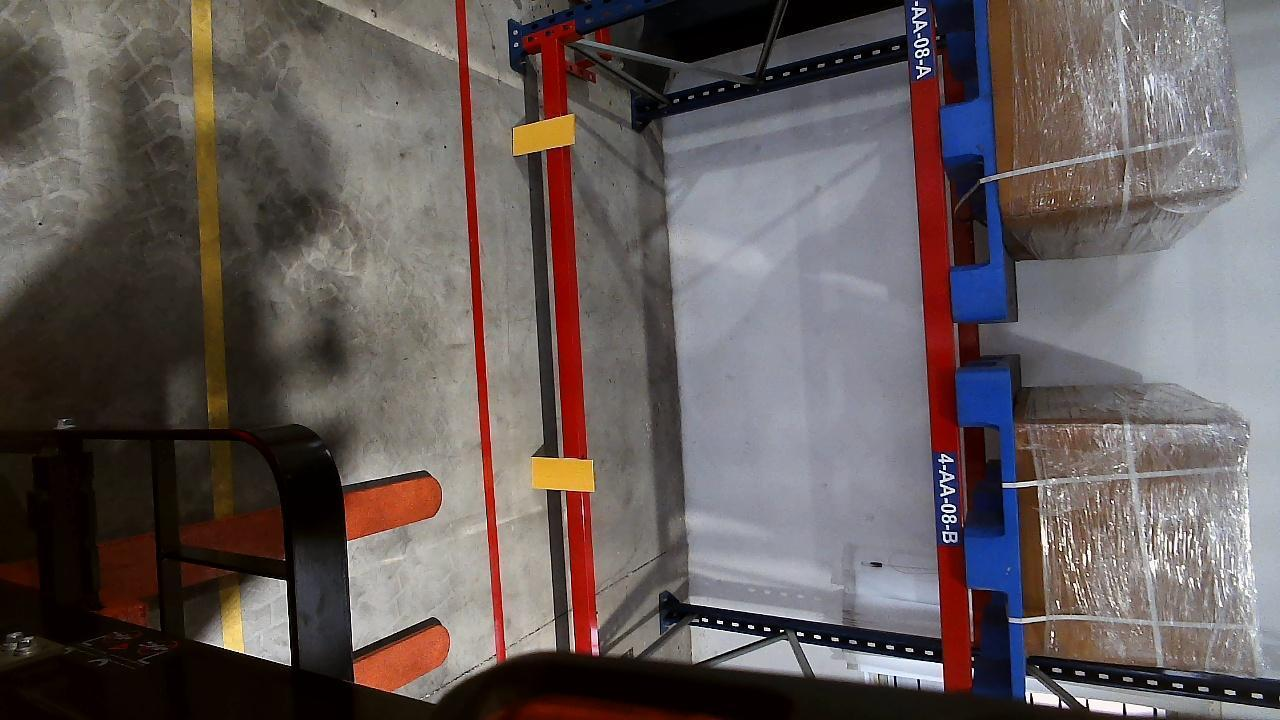red_line: (458, 0, 512, 659)
yellow_line: (188, 1, 230, 425)
